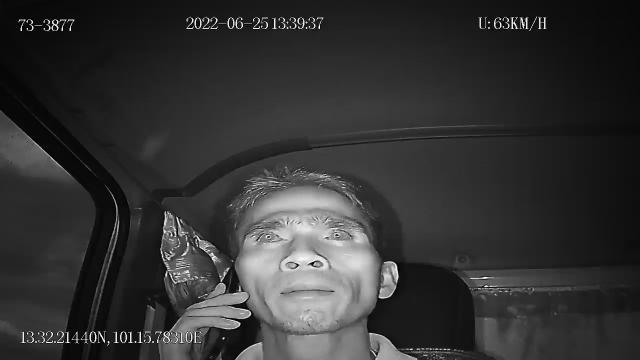PhoneUse: (202, 264, 240, 360)
SafeDriving: (249, 222, 292, 248), (319, 221, 361, 246)
